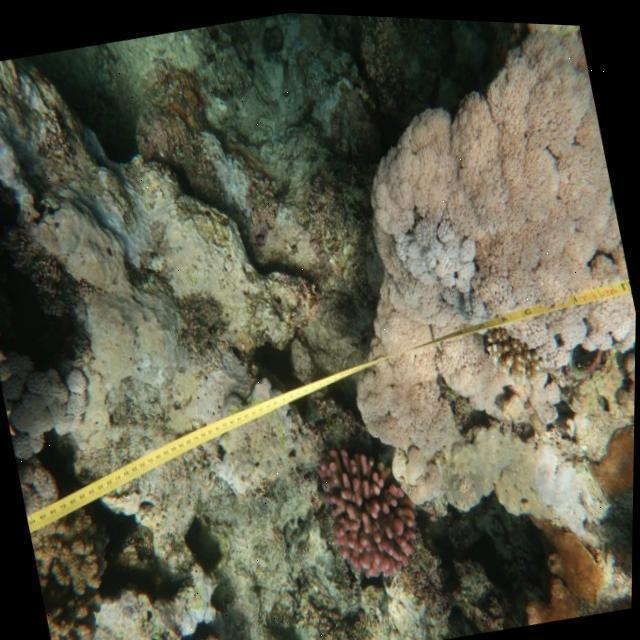Healthy Coral: (310, 428, 436, 600), (504, 507, 610, 624), (574, 386, 636, 506)
